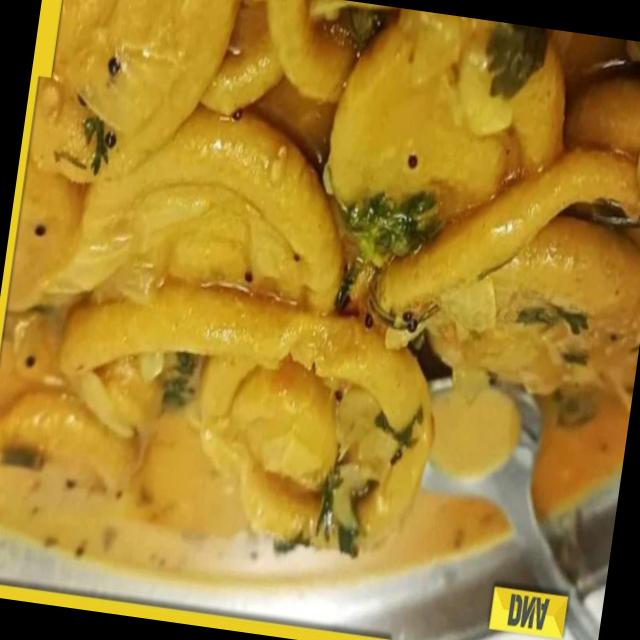jalebi: (0, 0, 640, 606)
